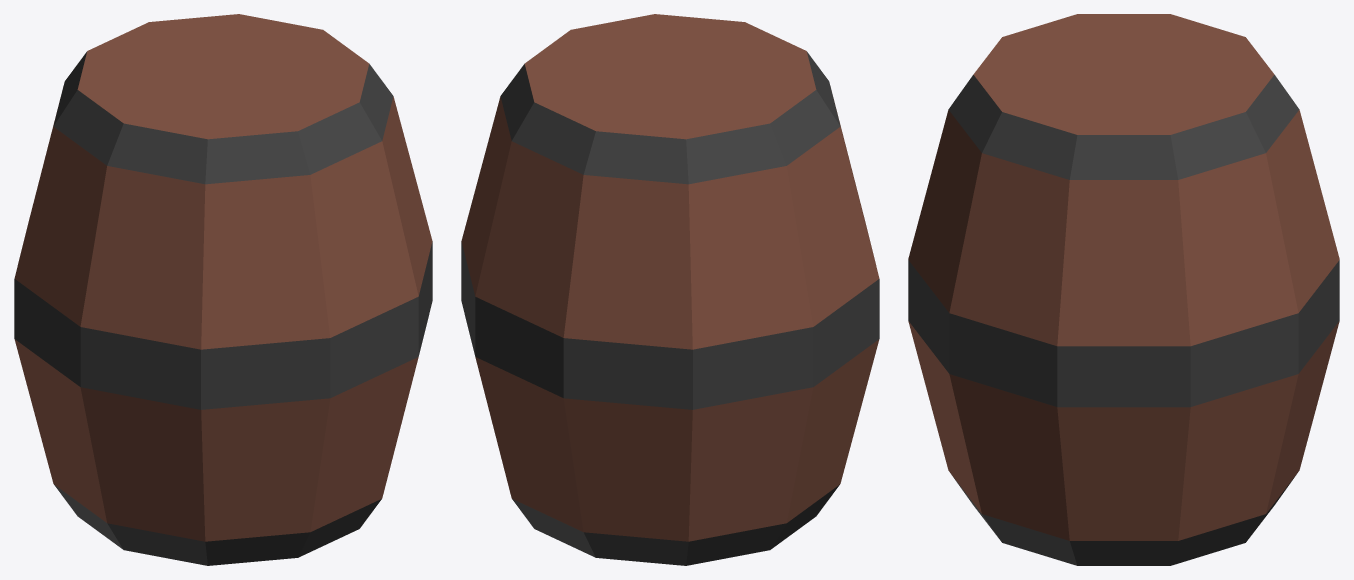
File: BARRELROLL.fbx
3 views of the same model, side by side, from view 1: azimuth 30°, elevation 25°; view 2: azimuth 150°, elevation 25°; view 3: azimuth 270°, elevation 25° (orthographic).
Parts seen in each view (by area): view 1: Cylinder; view 2: Cylinder; view 3: Cylinder.
Boxes of the visible parts, x1,y1,x2,y2 form: Cylinder: [14, 14, 432, 565]; Cylinder: [461, 14, 879, 565]; Cylinder: [908, 14, 1339, 565].
Size of the model in its own units: 685 by 793 by 720.
